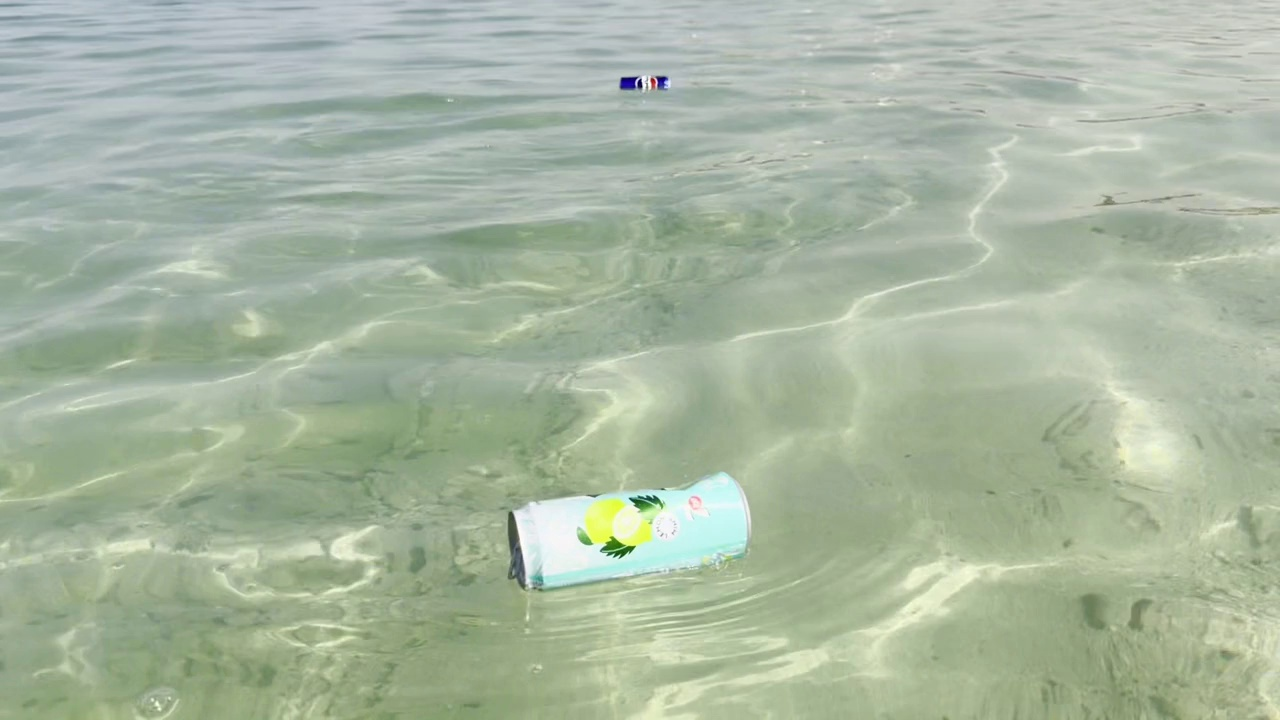debris: (501, 453, 761, 602), (617, 73, 672, 97)
